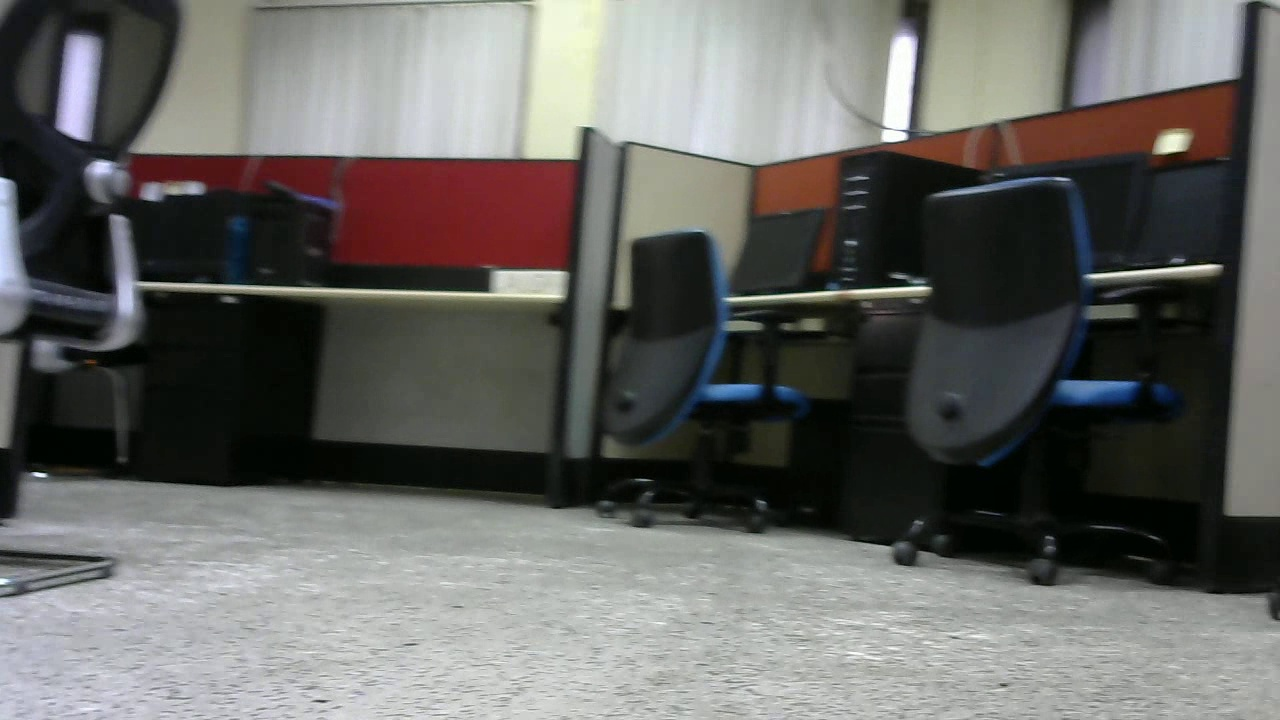chair: (889, 169, 1179, 584), (597, 224, 815, 544)
